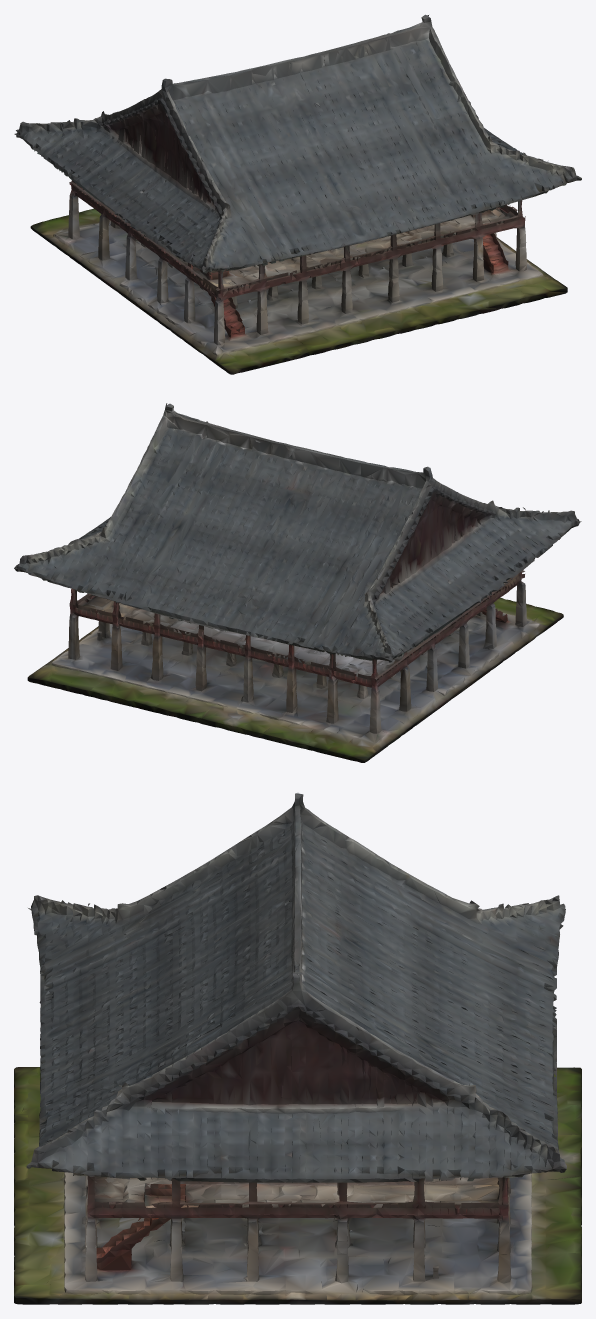
Rendered from gyeonghoeru.glb.
The picture shows the model from 3 angles, top to bottom: view 1: azimuth 30°, elevation 25°; view 2: azimuth 150°, elevation 25°; view 3: azimuth 270°, elevation 25°; orthographic projection. The views are drawn at different scales.
Size of the model in its own units: 1.03 by 0.5584 by 0.9454.
